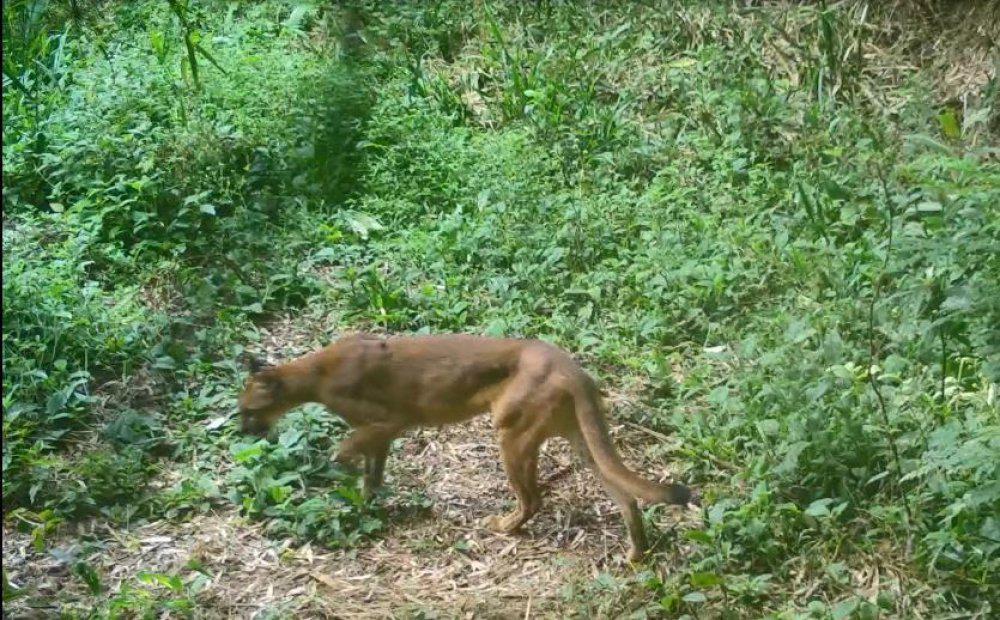OncaParda: (222, 329, 694, 573)
